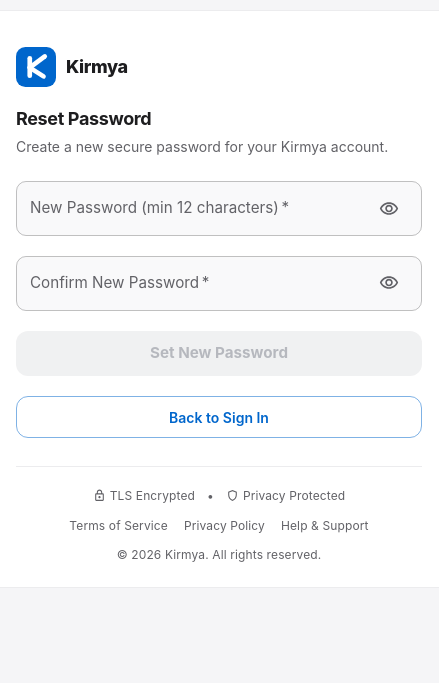
Test: ResetPasswordPage › sends the token from the link with the new password
Type "ReplacementP@ssw0rd456!" into the password field labelled "New Password (min 12 characters) *" at (188, 208), box x1=16 y1=181 x2=359 y2=236
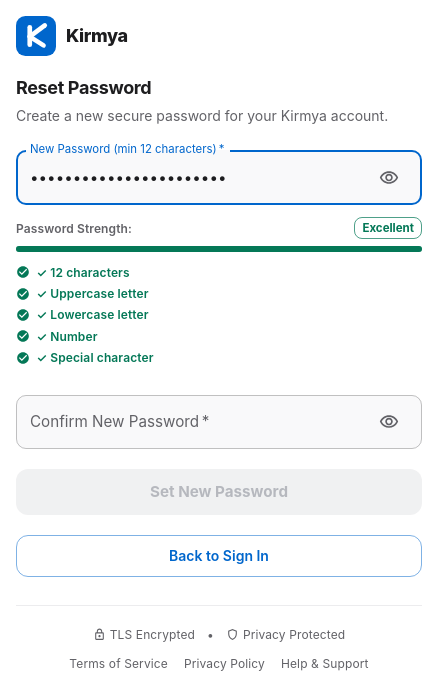
Type "ReplacementP@ssw0rd456!" into the password field labelled "Confirm New Password *" at (188, 422), box x1=16 y1=395 x2=359 y2=449
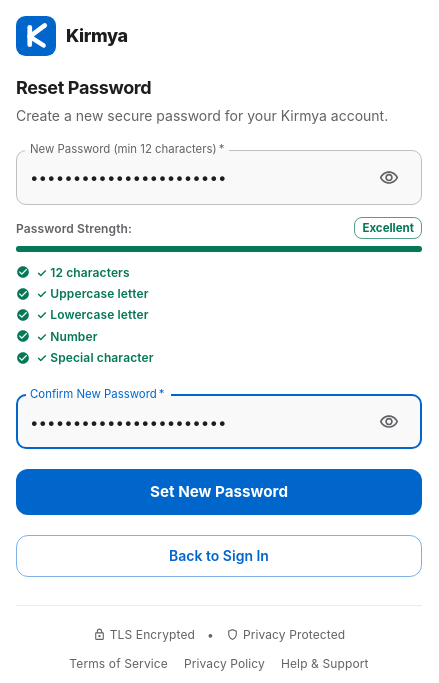
Click the button "Set New Password" at (219, 492), box x1=16 y1=469 x2=422 y2=515
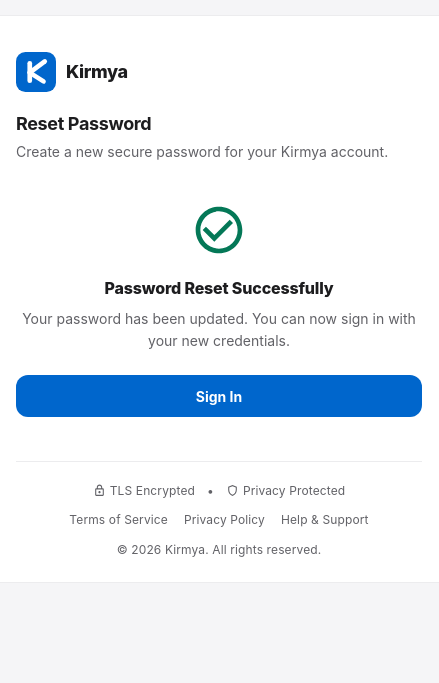
Check: the heading "Password Reset Successfully" is shown, box x1=104 y1=278 x2=334 y2=298
